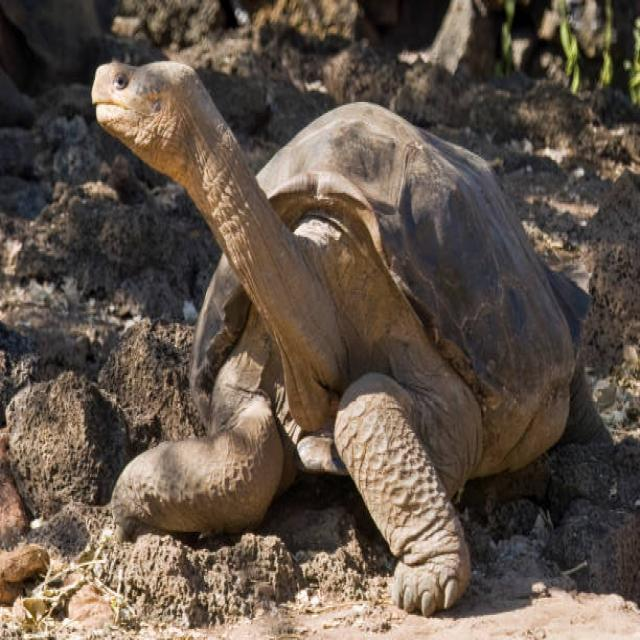tortoise: (179, 101, 586, 402), (88, 53, 262, 350), (323, 370, 475, 630), (101, 424, 294, 549), (556, 373, 616, 457)
